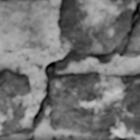brick: (48, 73, 139, 137), (0, 0, 50, 50), (0, 69, 32, 132)
broken_brick: (57, 0, 138, 52), (121, 23, 139, 58)
crack: (0, 0, 139, 138)
